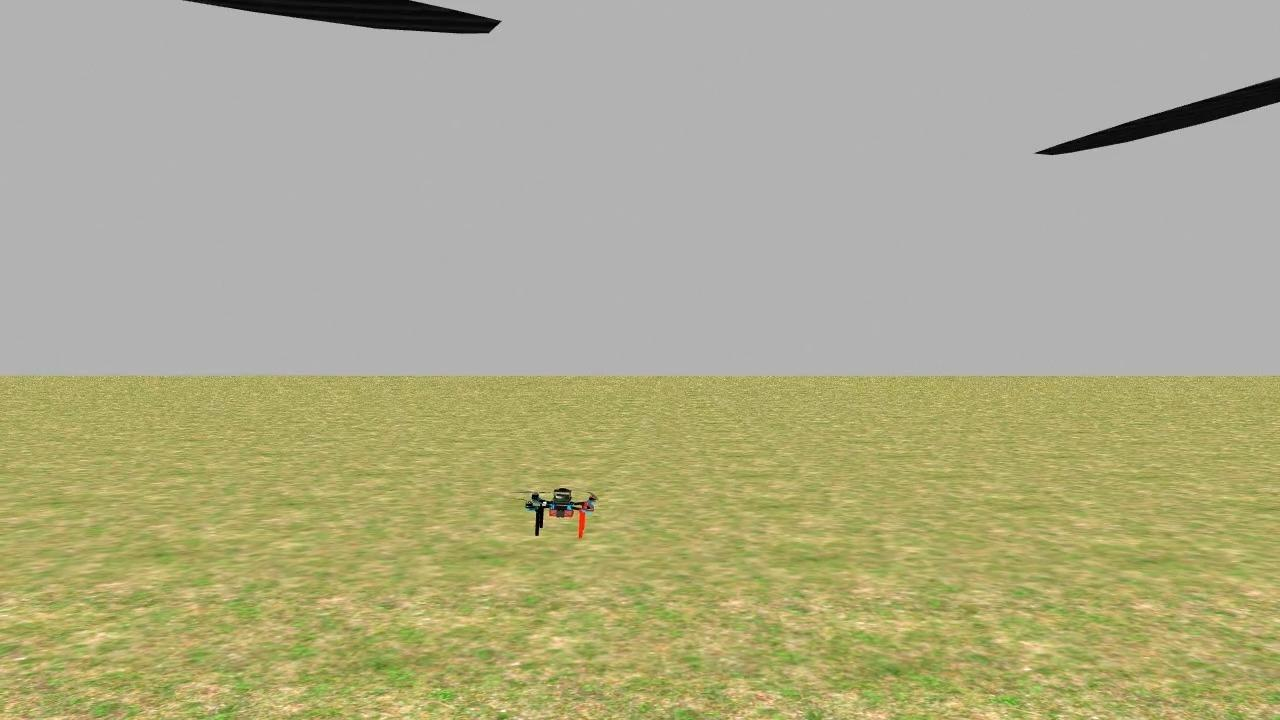UAV: (509, 474, 610, 549)
